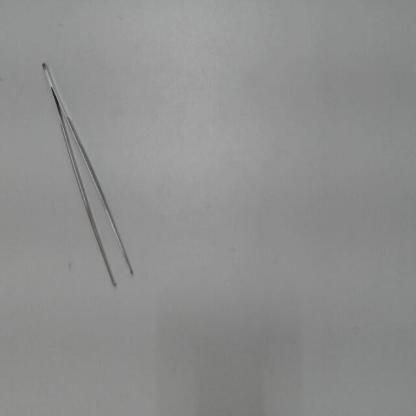Gillies Toothed Dissector: (35, 47, 142, 298)
